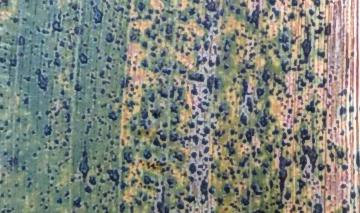tarspot: (273, 153, 289, 210), (298, 21, 315, 70), (76, 138, 90, 186), (32, 64, 50, 92), (197, 173, 210, 205), (89, 5, 106, 27), (249, 179, 267, 199), (185, 69, 206, 85), (206, 72, 220, 96), (140, 173, 164, 187), (240, 78, 253, 102), (106, 166, 120, 188), (293, 175, 306, 197), (236, 110, 251, 128), (297, 127, 312, 144), (121, 148, 135, 166), (194, 52, 208, 69), (258, 108, 270, 127), (170, 148, 185, 163), (244, 126, 256, 144), (75, 51, 90, 65), (303, 68, 317, 83), (322, 20, 333, 39), (203, 1, 219, 14), (150, 106, 164, 120), (303, 100, 317, 114), (40, 121, 53, 136), (183, 133, 199, 145), (103, 30, 116, 44), (314, 46, 328, 59), (62, 112, 75, 126), (164, 176, 178, 189), (71, 24, 84, 38), (188, 83, 200, 98), (146, 26, 158, 41), (162, 20, 174, 35), (151, 135, 162, 151), (254, 83, 265, 99), (187, 161, 198, 177), (264, 142, 276, 156), (200, 38, 214, 50), (158, 88, 170, 102), (200, 125, 211, 140), (260, 66, 271, 81), (271, 124, 281, 140), (142, 148, 154, 161), (106, 109, 118, 122), (337, 104, 349, 117), (221, 182, 233, 195), (207, 159, 218, 173), (271, 6, 282, 20), (239, 169, 250, 183), (272, 47, 283, 61), (51, 50, 61, 65), (17, 32, 26, 48), (96, 68, 108, 80), (312, 201, 324, 213), (321, 115, 329, 133), (71, 194, 82, 207), (139, 107, 150, 120), (347, 189, 358, 202), (147, 91, 157, 105), (182, 193, 196, 203), (17, 162, 29, 173), (138, 57, 149, 69), (239, 194, 250, 206), (185, 119, 196, 131), (167, 104, 179, 115), (118, 200, 128, 213), (282, 137, 292, 150), (187, 4, 196, 18), (72, 82, 83, 93), (136, 1, 147, 12), (139, 40, 150, 51), (61, 148, 72, 159), (247, 50, 258, 61), (8, 56, 18, 68), (307, 7, 317, 19), (340, 162, 350, 174), (297, 8, 307, 20), (189, 149, 198, 162), (43, 106, 52, 119), (133, 194, 142, 207), (21, 94, 31, 105), (82, 183, 93, 193), (103, 54, 113, 65), (229, 73, 239, 84), (338, 180, 348, 191), (228, 127, 239, 137), (202, 144, 211, 156), (324, 191, 333, 203), (293, 85, 305, 94), (119, 52, 129, 62), (64, 126, 74, 136), (22, 74, 32, 84), (124, 2, 134, 12), (56, 38, 66, 48), (260, 166, 270, 176), (159, 120, 170, 129), (281, 24, 290, 35), (317, 172, 326, 183), (250, 166, 259, 177), (284, 125, 293, 136), (286, 11, 295, 22), (76, 41, 90, 48), (132, 128, 144, 136), (182, 101, 190, 113), (185, 176, 198, 183), (98, 86, 107, 96), (91, 34, 100, 44), (316, 162, 325, 172), (153, 16, 163, 25), (285, 50, 294, 60), (320, 107, 329, 117), (47, 173, 56, 183), (182, 184, 192, 193), (238, 1, 249, 9), (99, 191, 110, 199), (217, 103, 224, 115), (54, 196, 63, 205), (138, 95, 147, 104), (101, 154, 110, 163), (222, 62, 231, 71), (63, 188, 71, 198), (53, 137, 61, 147), (140, 80, 148, 90), (288, 1, 301, 7), (78, 113, 89, 120), (14, 114, 21, 125), (147, 6, 154, 17), (31, 150, 39, 159), (58, 87, 66, 96), (160, 154, 169, 162), (149, 44, 158, 52), (159, 49, 167, 58), (337, 129, 346, 137), (286, 107, 295, 115), (154, 128, 164, 135), (132, 137, 139, 147), (76, 94, 83, 104), (171, 61, 177, 72), (107, 140, 115, 148), (151, 67, 159, 75), (227, 4, 235, 12), (103, 133, 112, 140), (69, 175, 76, 184), (39, 37, 46, 46), (151, 52, 157, 60)
